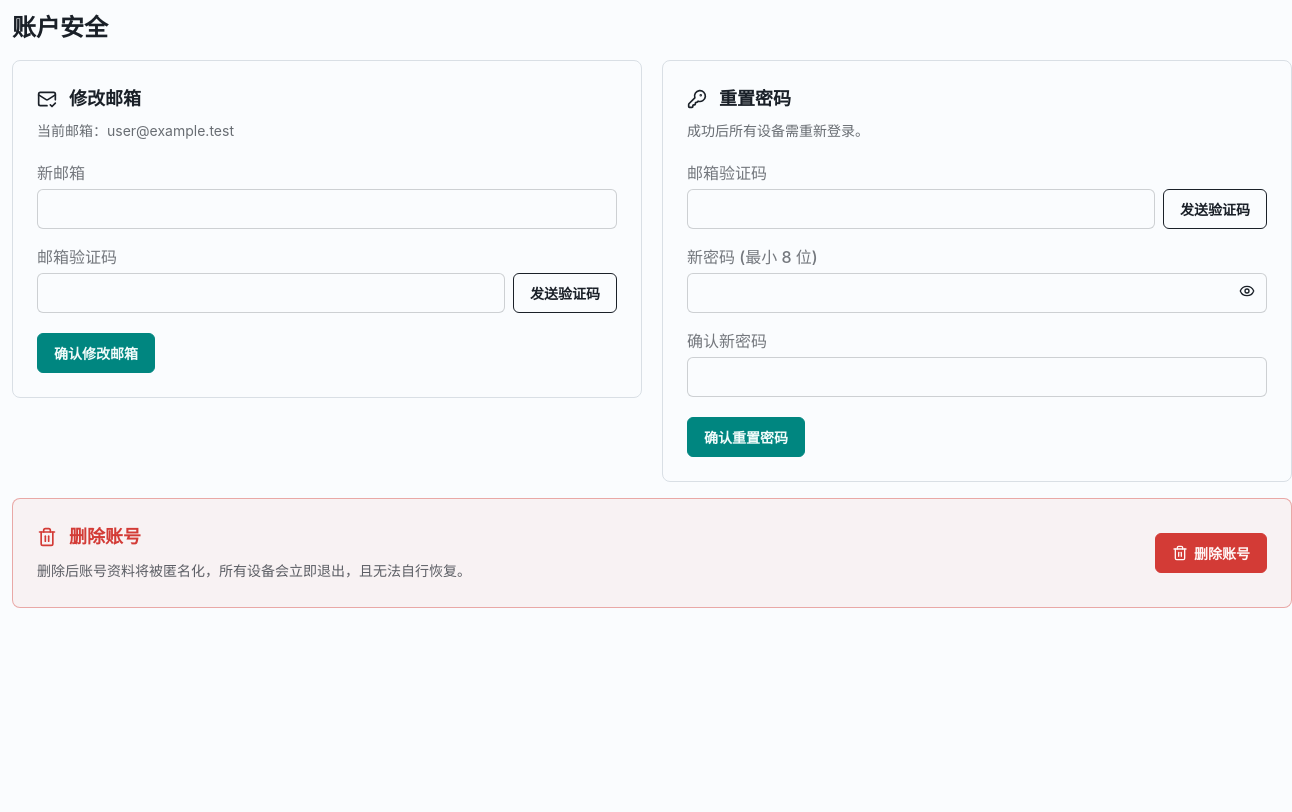
it: AccountSecurityPanel › shows a password length error on the new-password field
Type "123456" into the field labelled "邮箱验证码" below "成功后所有设备需重新登录。" at (921, 209), box top-left (687, 189), bottom-right (1155, 229)
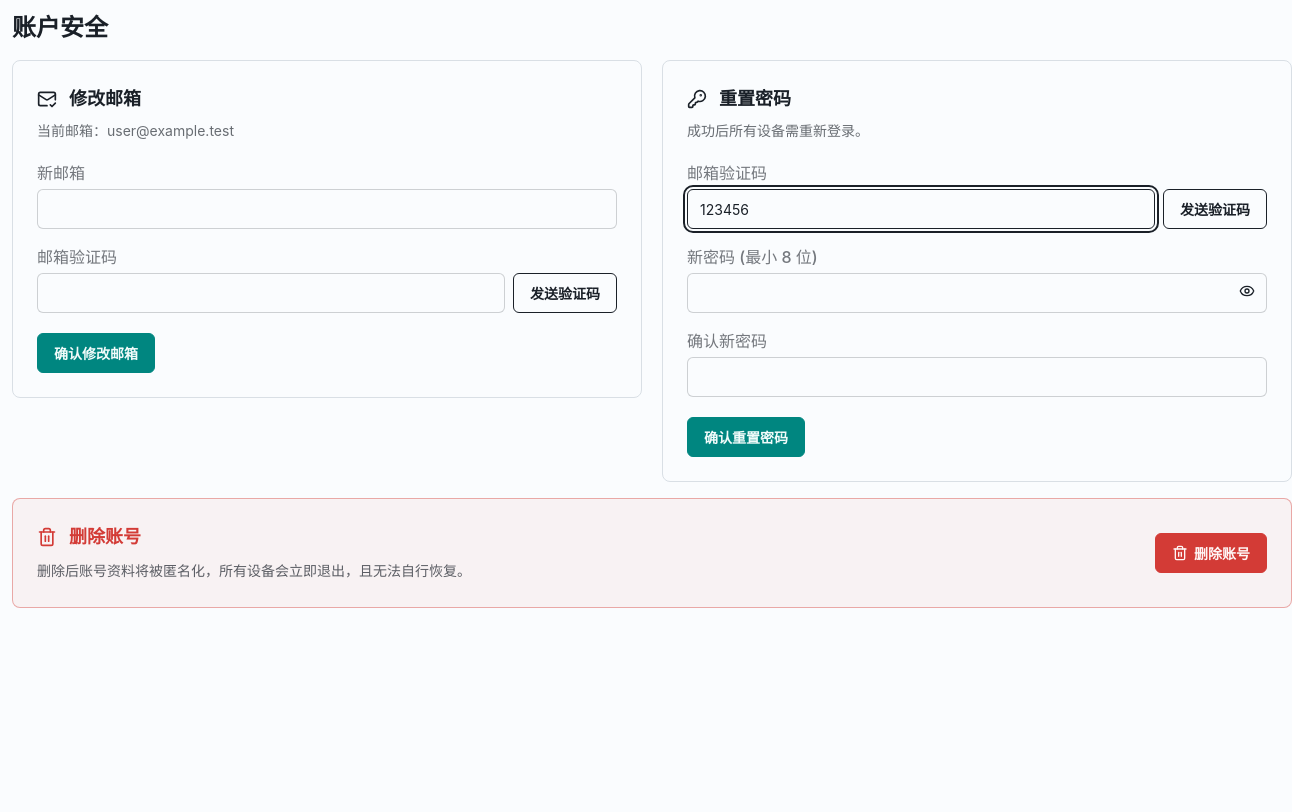
Type "short" into the password field labelled "新密码 (最小 8 位)" at (977, 293), box top-left (687, 273), bottom-right (1267, 313)
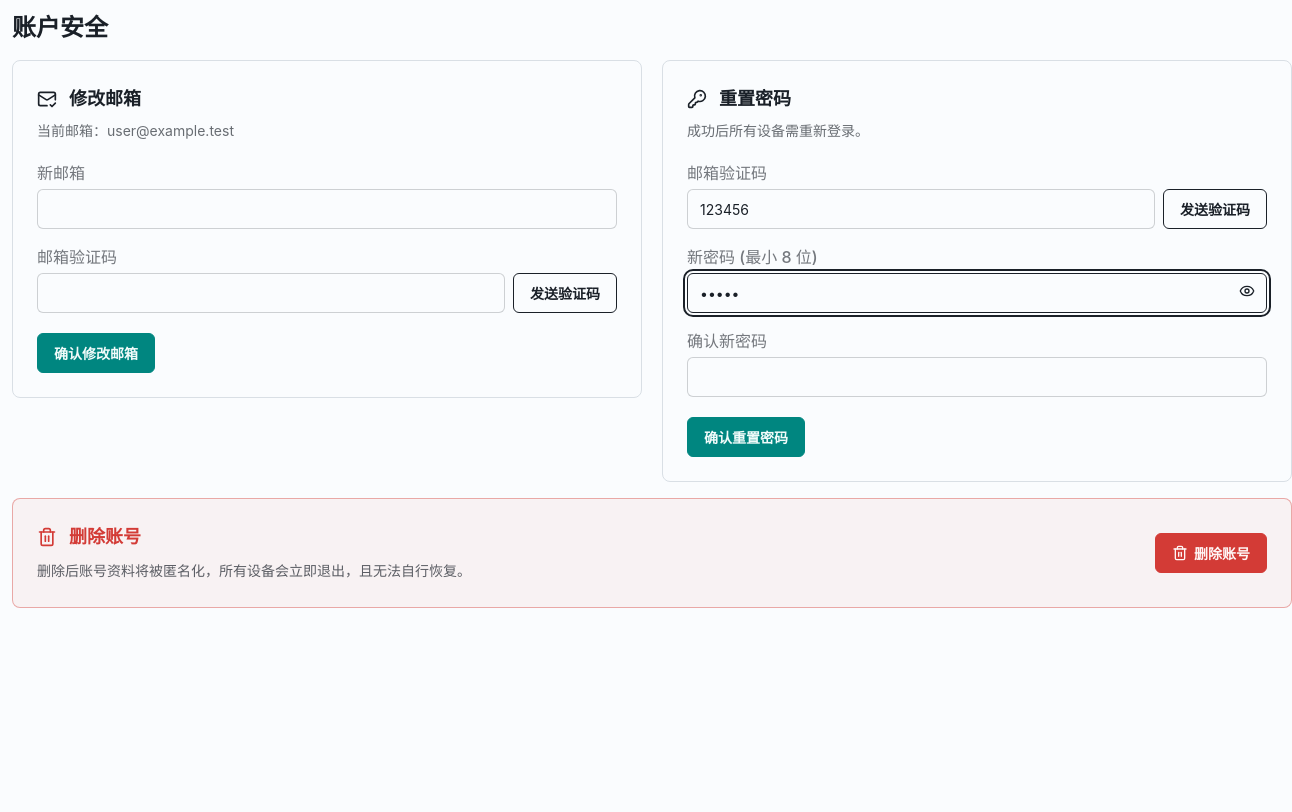
Type "short" into the password field labelled "确认新密码" at (977, 377), box top-left (687, 357), bottom-right (1267, 397)
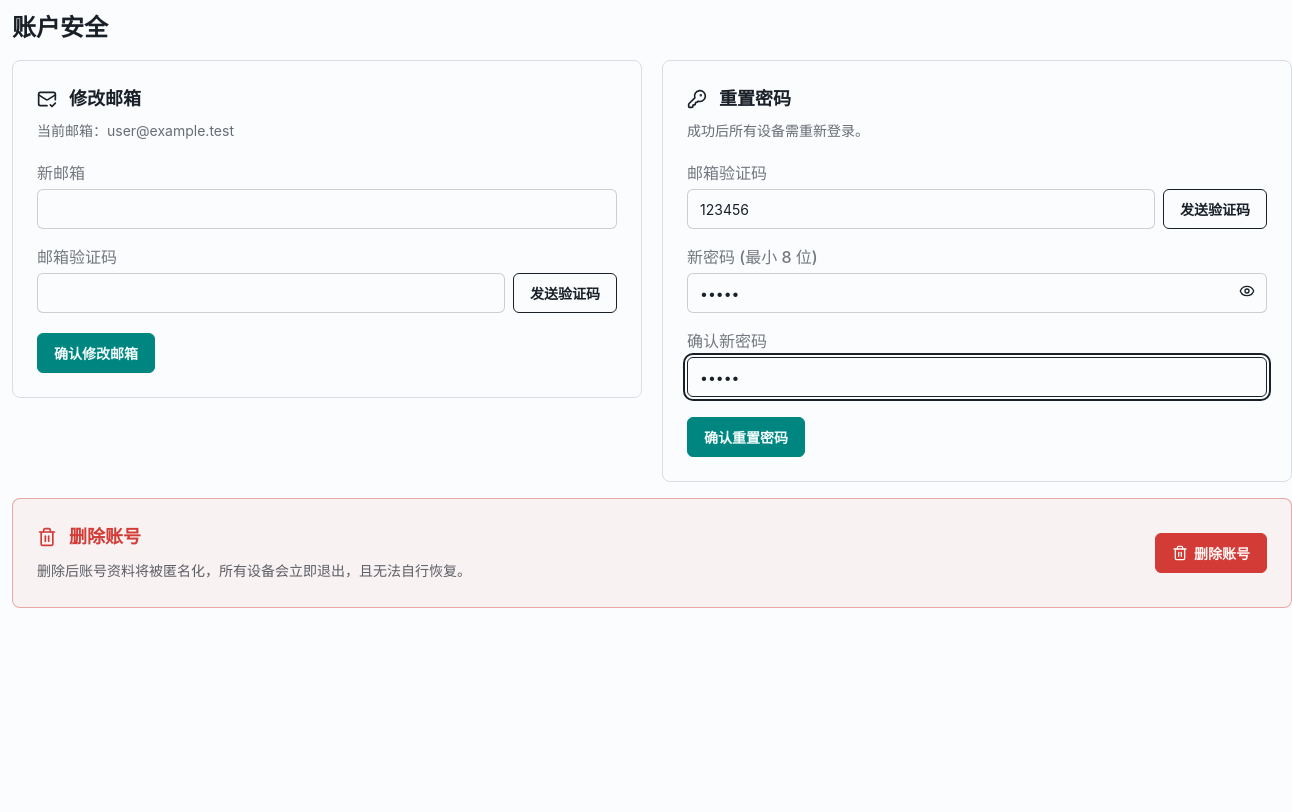
Click the button "确认重置密码" at (746, 437), box top-left (687, 417), bottom-right (805, 457)
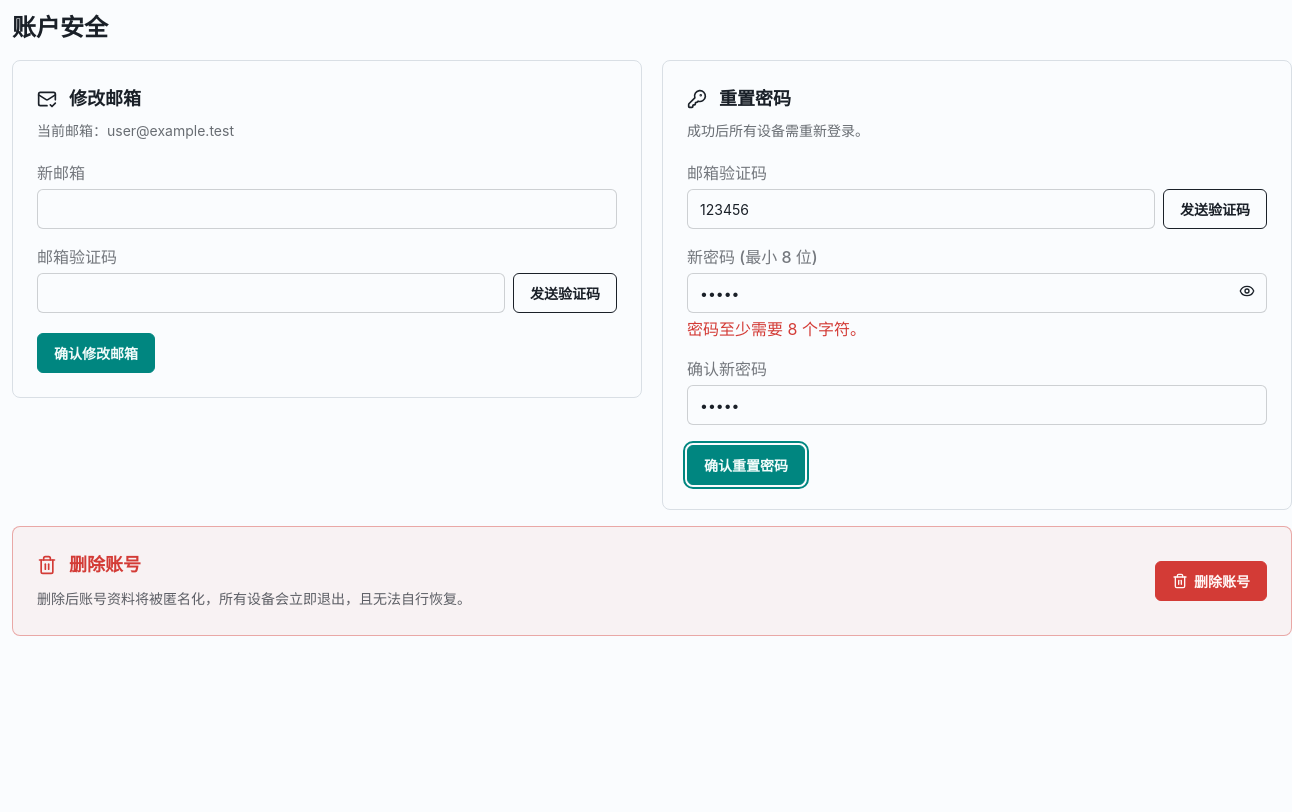
Expected: the text "密码至少需要 8 个字符。" is shown, top-left (687, 313), bottom-right (866, 341)
